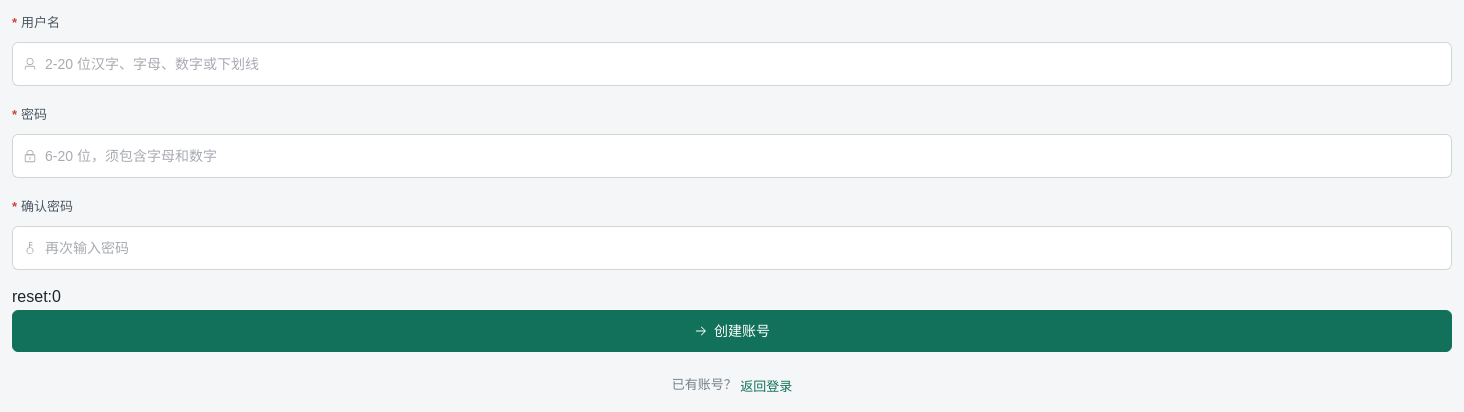
Register.vue › resets captcha after username conflict (40901)
Type "taken_user" into the field labelled "用户名" at (743, 64), box [45,49,1441,79]
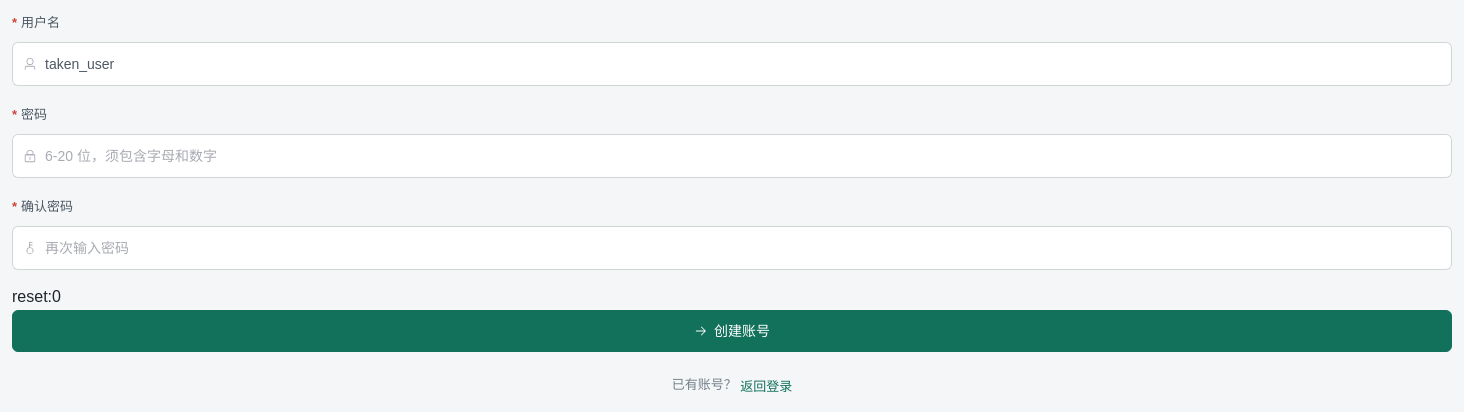
Type "pass1234" into the password field labelled "密码" at (743, 156), box [45,141,1441,171]
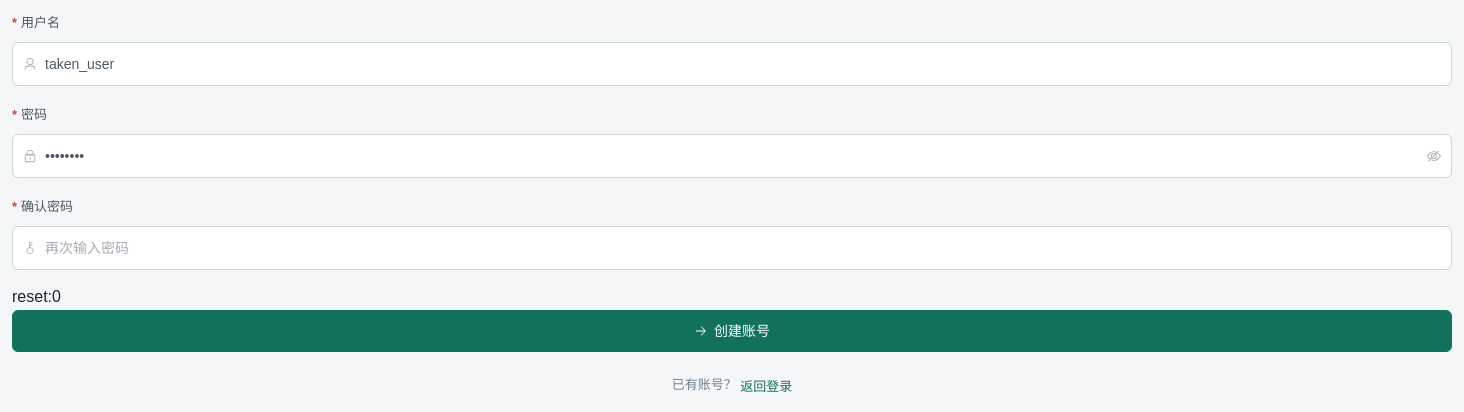
Type "pass1234" into the password field labelled "确认密码" at (743, 248), box [45,233,1441,263]
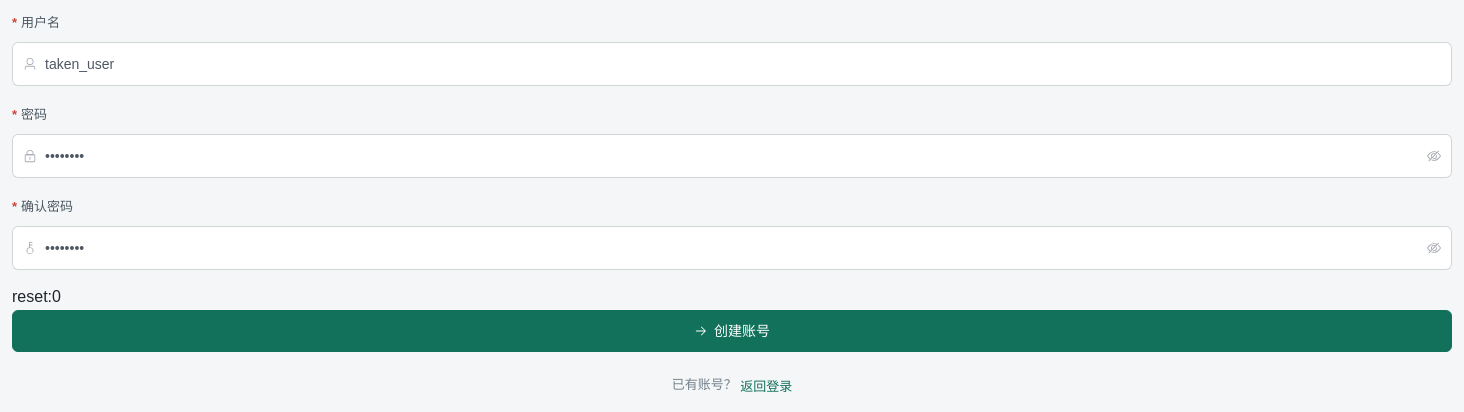
Submit the form
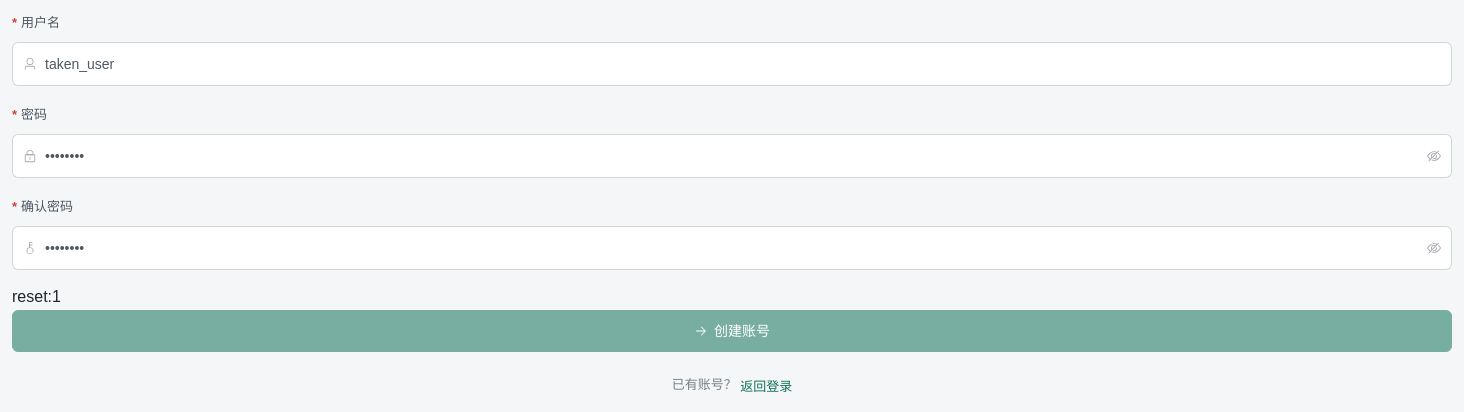
Expected: the button with class "submit-button" is disabled, [12,310,1452,352]
